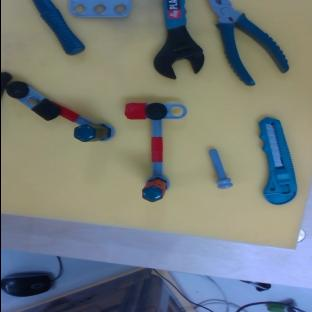non_pass: (0, 75, 116, 154)
pass: (122, 103, 185, 203)
